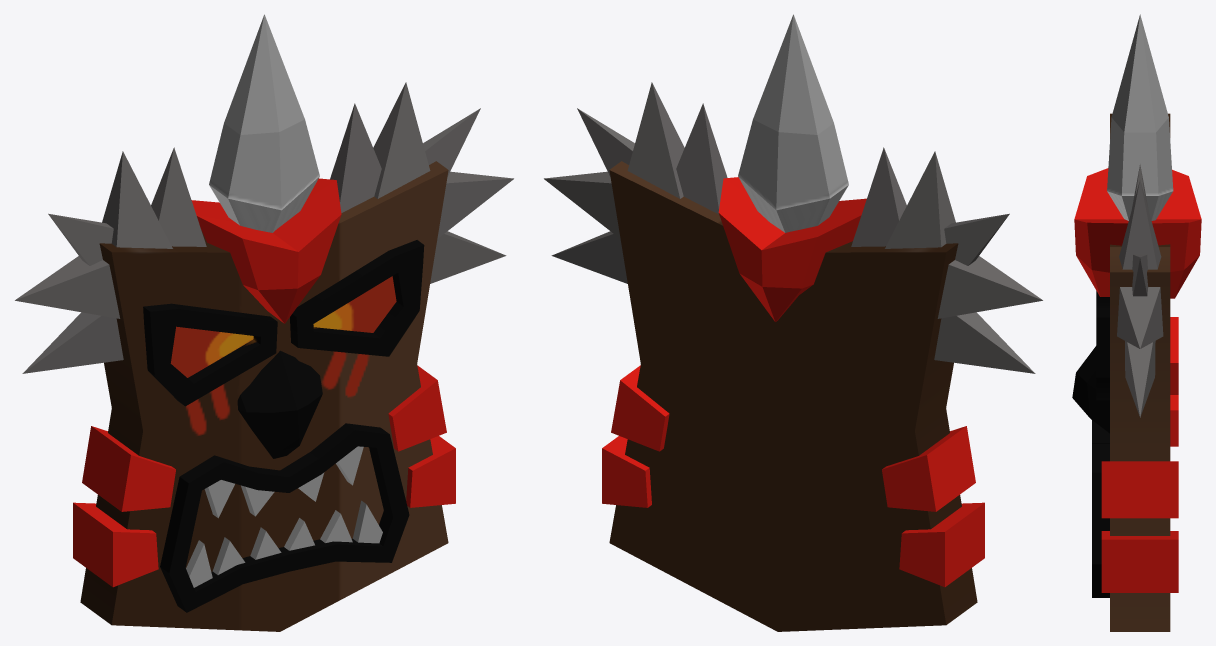
File: Mask 03.fbx
The picture shows the model from 3 angles, left to right: view 1: azimuth 30°, elevation 25°; view 2: azimuth 150°, elevation 25°; view 3: azimuth 270°, elevation 25°; orthographic projection. The views are drawn at different scales.
Visible parts, largest first — view 1: Mask 02; view 2: Mask 02; view 3: Mask 02.
Part boxes in pixels (x1,y1,x2,y2): Mask 02: (15, 14, 513, 631); Mask 02: (544, 14, 1042, 631); Mask 02: (1072, 14, 1201, 631).
Bounding box in the file's own units: 86.71 × 100 × 20.14.
1 material, 1 textured.
